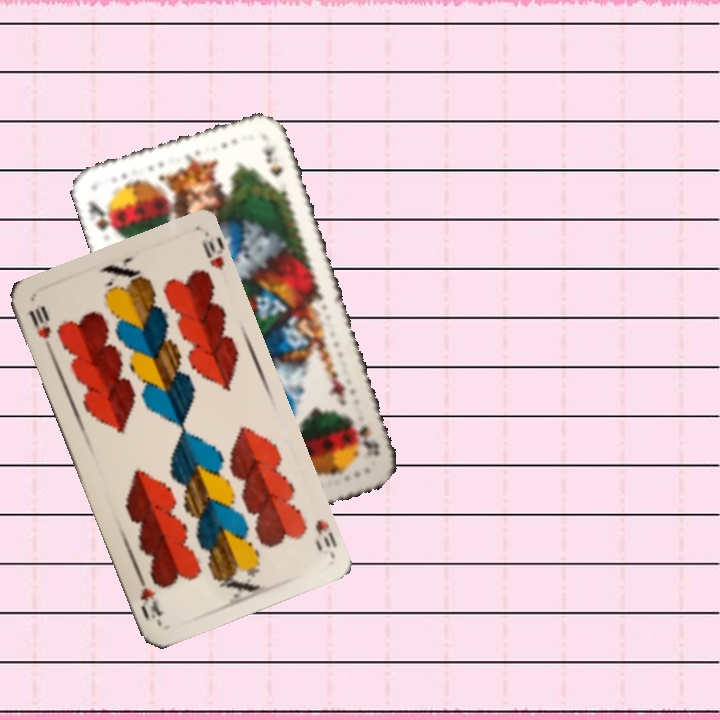H10: (25, 301, 56, 356), (311, 515, 339, 550)
SK: (84, 197, 120, 238), (351, 422, 382, 459)
